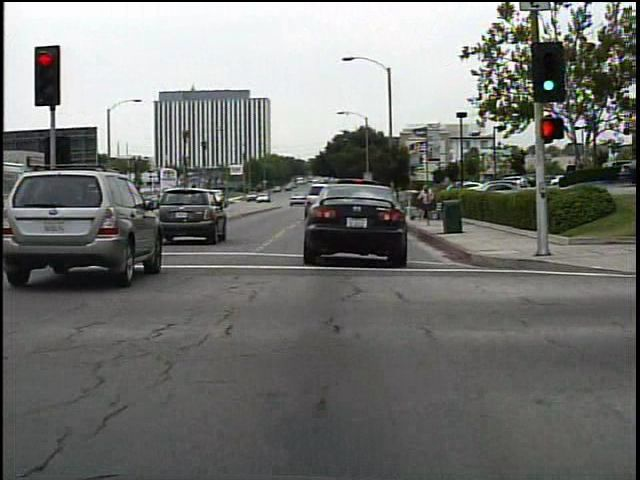person: (415, 179, 436, 224)
